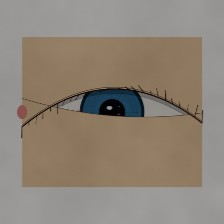hemorrhage_spot: (68, 99, 131, 149)
